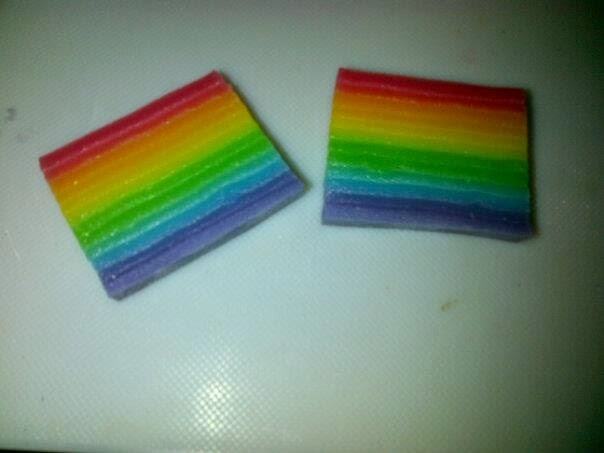kue_lapis_pelangi: (38, 70, 309, 303), (321, 68, 538, 255)
